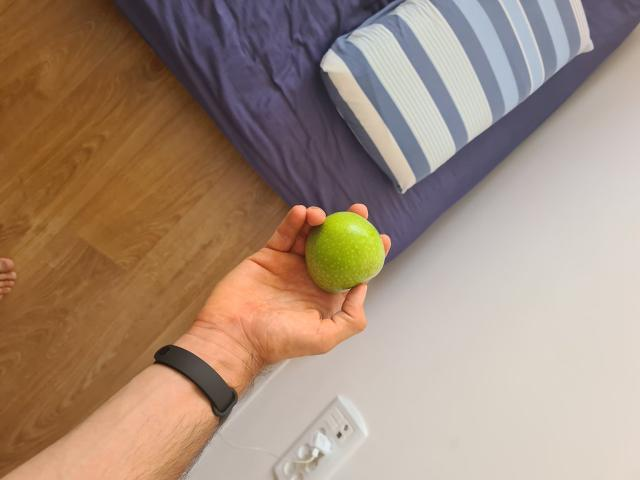apple: (297, 211, 387, 288)
